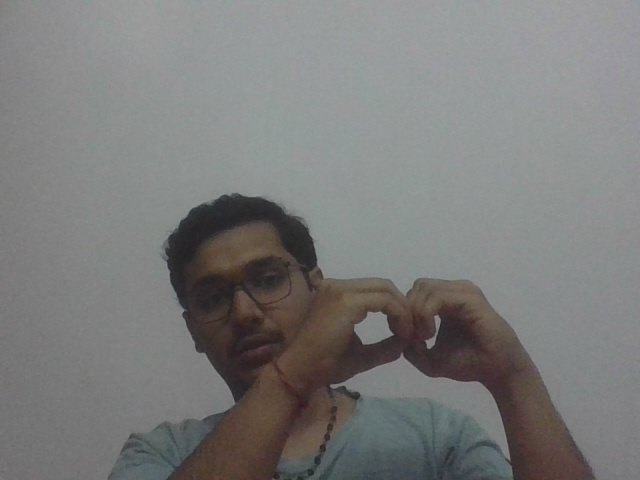B: (301, 271, 530, 387)
